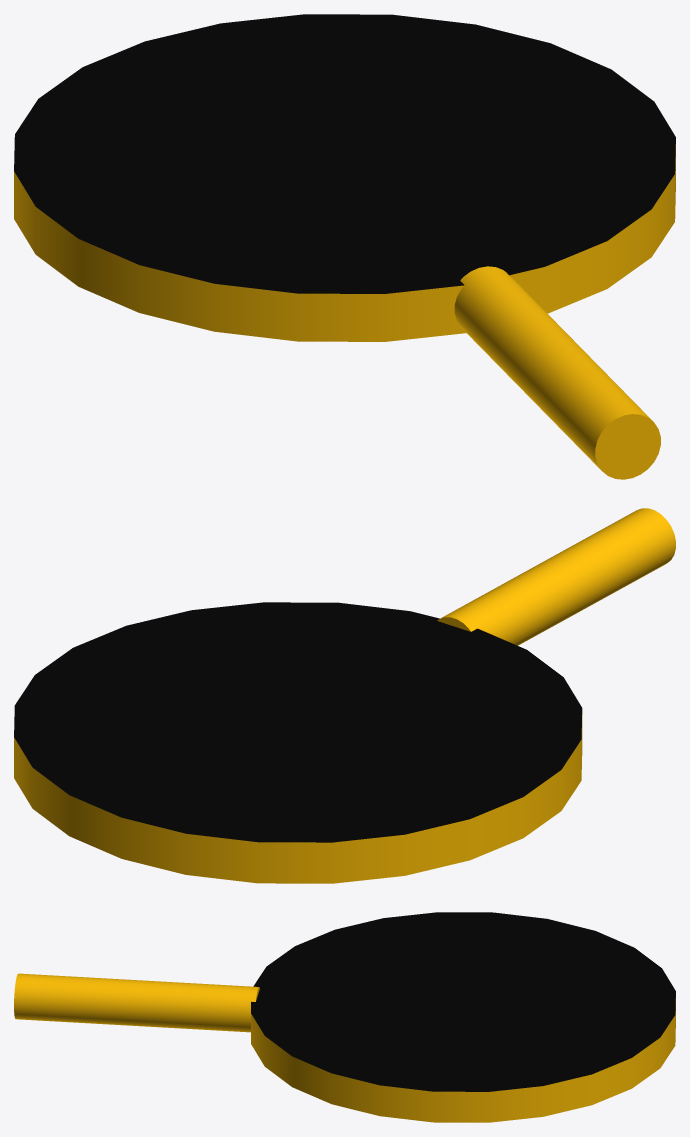
Rendered from rocket.fbx.
The picture shows the model from 3 angles, top to bottom: view 1: azimuth 30°, elevation 25°; view 2: azimuth 150°, elevation 25°; view 3: azimuth 270°, elevation 25°; orthographic projection. The views are drawn at different scales.
Visible parts, largest first — view 1: Model, Group1; view 2: Model, Group1; view 3: Model, Group1.
Boxes of the visible parts, x1=… form: Model: x1=14, y1=14, x2=675, y2=341; Group1: x1=454, y1=266, x2=660, y2=479; Model: x1=14, y1=602, x2=582, y2=883; Group1: x1=437, y1=508, x2=675, y2=645; Model: x1=251, y1=912, x2=675, y2=1122; Group1: x1=14, y1=973, x2=259, y2=1032.
Size of the model in its own units: 5 by 0.536 by 7.79.
